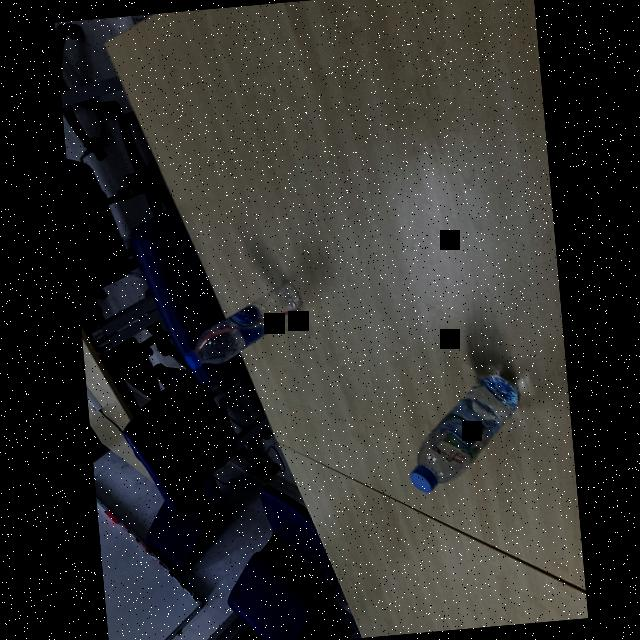plastic_bottle: (399, 371, 526, 494), (176, 280, 308, 372)
plastic_bottle_cap: (409, 463, 437, 494), (183, 349, 201, 370)
straw: (190, 306, 305, 358)
